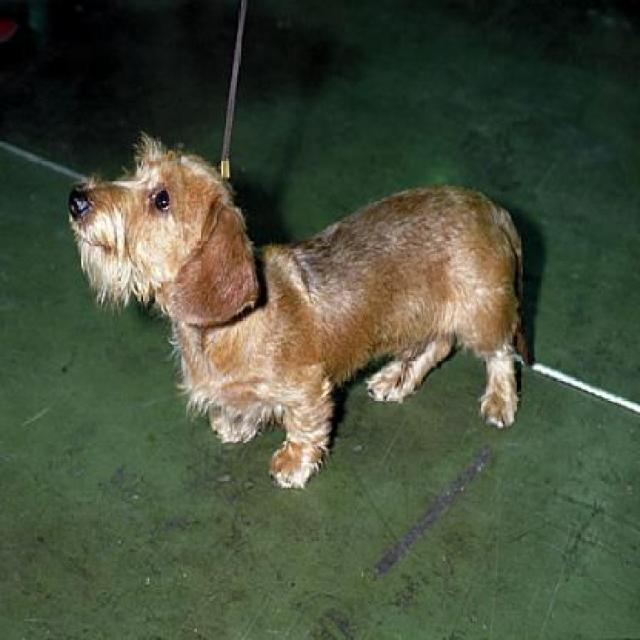Dog: (62, 128, 540, 495)
